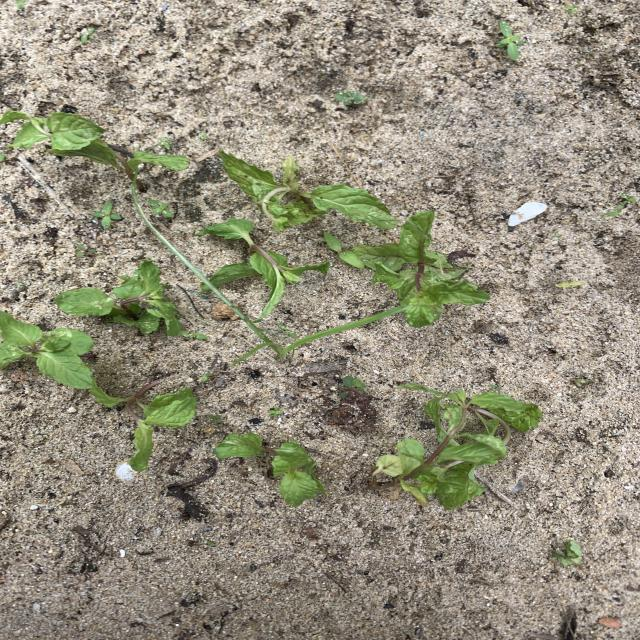crop: (371, 383, 541, 509), (354, 211, 488, 326), (0, 110, 190, 191), (219, 150, 397, 232), (200, 218, 327, 317), (55, 261, 185, 336), (92, 384, 195, 470), (215, 433, 326, 505), (0, 311, 95, 389)
weed: (131, 186, 405, 362), (323, 232, 366, 269), (551, 541, 588, 571), (496, 21, 523, 59), (94, 201, 120, 227), (604, 195, 634, 215), (148, 199, 174, 218), (341, 376, 364, 396), (334, 91, 364, 105), (178, 330, 207, 340), (118, 270, 140, 281), (76, 244, 96, 256), (80, 28, 95, 42), (556, 281, 583, 287), (160, 137, 171, 151), (574, 379, 591, 386), (268, 408, 282, 415), (209, 415, 221, 423), (201, 373, 210, 381)
